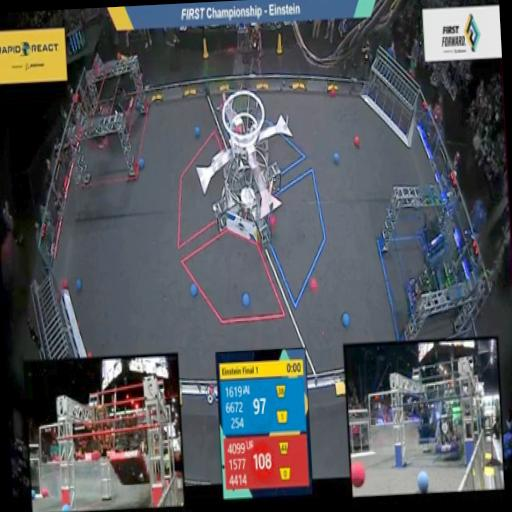robot: (430, 246, 470, 320), (414, 187, 452, 260), (402, 262, 438, 331), (101, 73, 139, 133), (80, 88, 112, 150)
